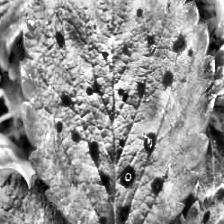Leaf Spot: (18, 0, 216, 224), (0, 168, 114, 224), (120, 180, 224, 224), (0, 0, 43, 55)
